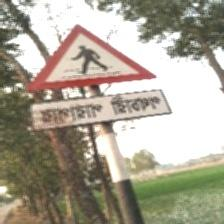Pedestrian-crossing: (25, 22, 167, 134)
